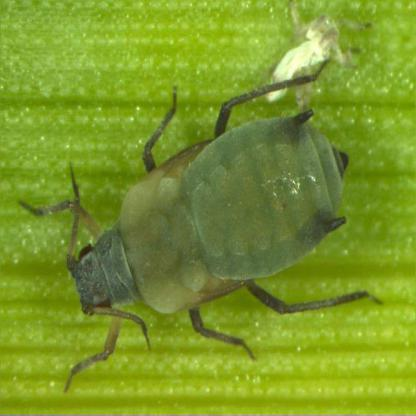schizaphis graminum: (64, 57, 374, 392)
